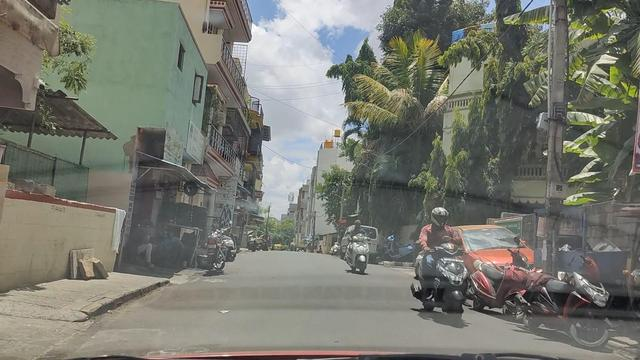LMV: (418, 203, 465, 317), (342, 219, 370, 271)
